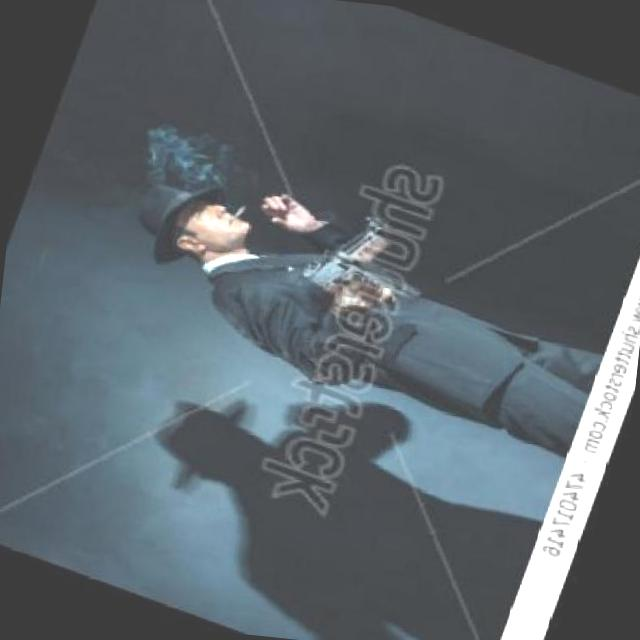smoke: (230, 202, 249, 226)
